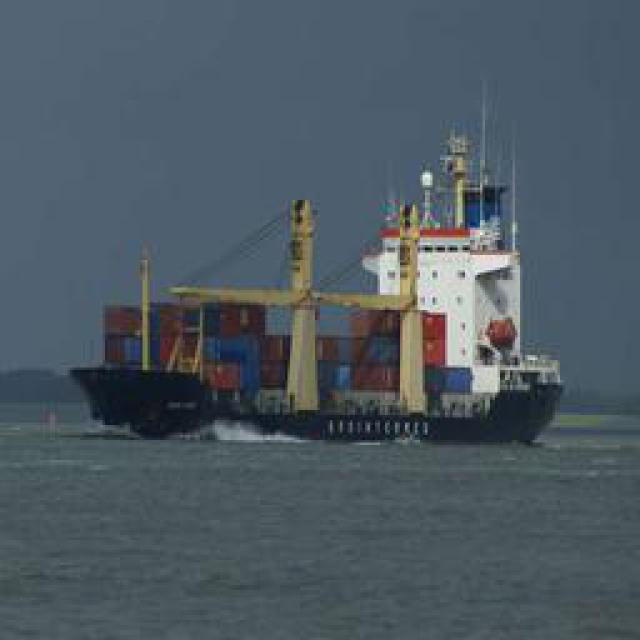Ship: (79, 187, 569, 445)
